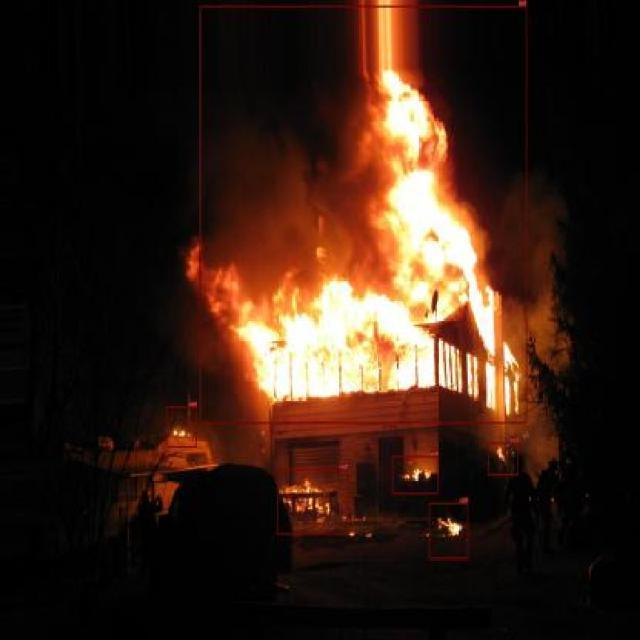Fire: (201, 6, 527, 423), (276, 468, 350, 534), (428, 502, 468, 560), (392, 456, 438, 494), (167, 406, 198, 448), (488, 442, 518, 476)
